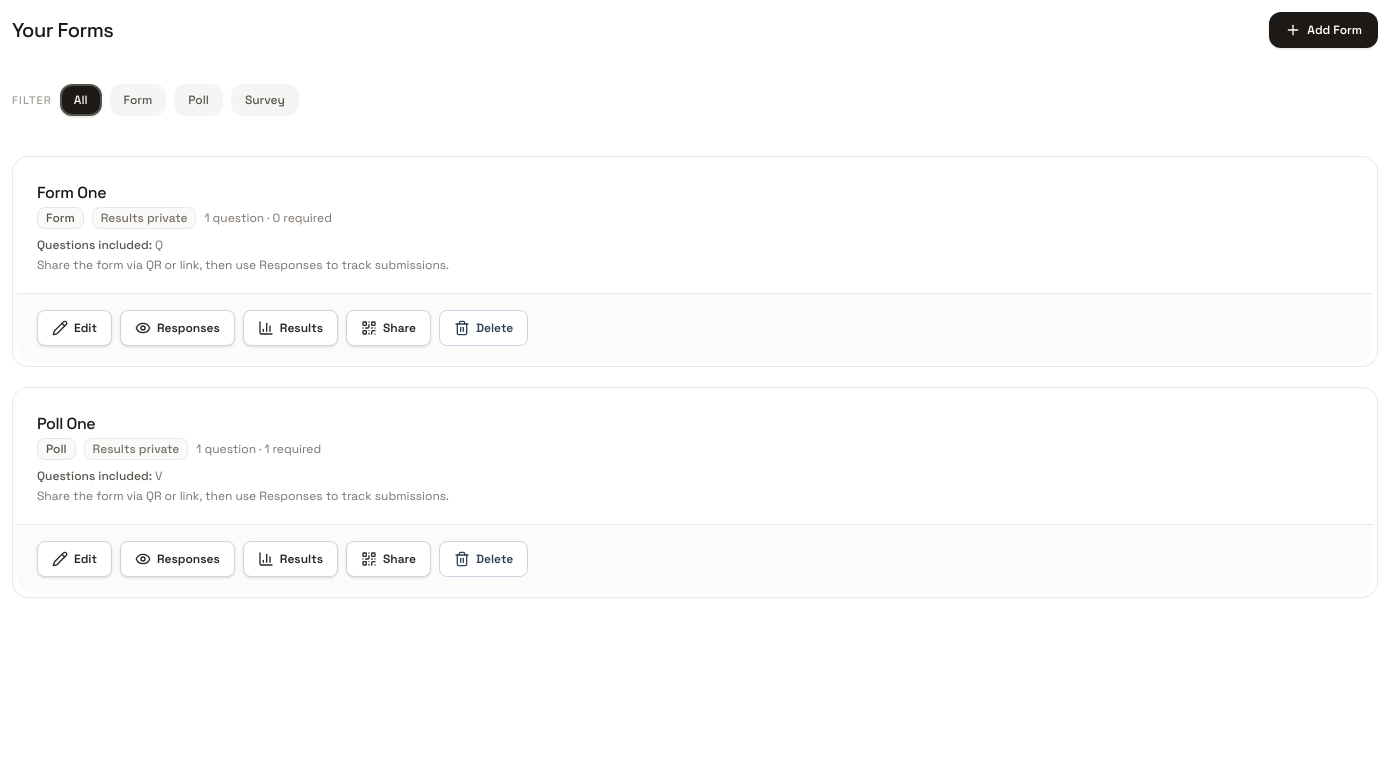
Test: FormsPage › filter by kind shows only matching forms
Expected: the text "Form One" is shown, [37,182,106,203]
Expected: the text "Poll One" is shown, [37,413,95,434]
Click the button "Poll" at (199, 100), box [174,84,223,116]
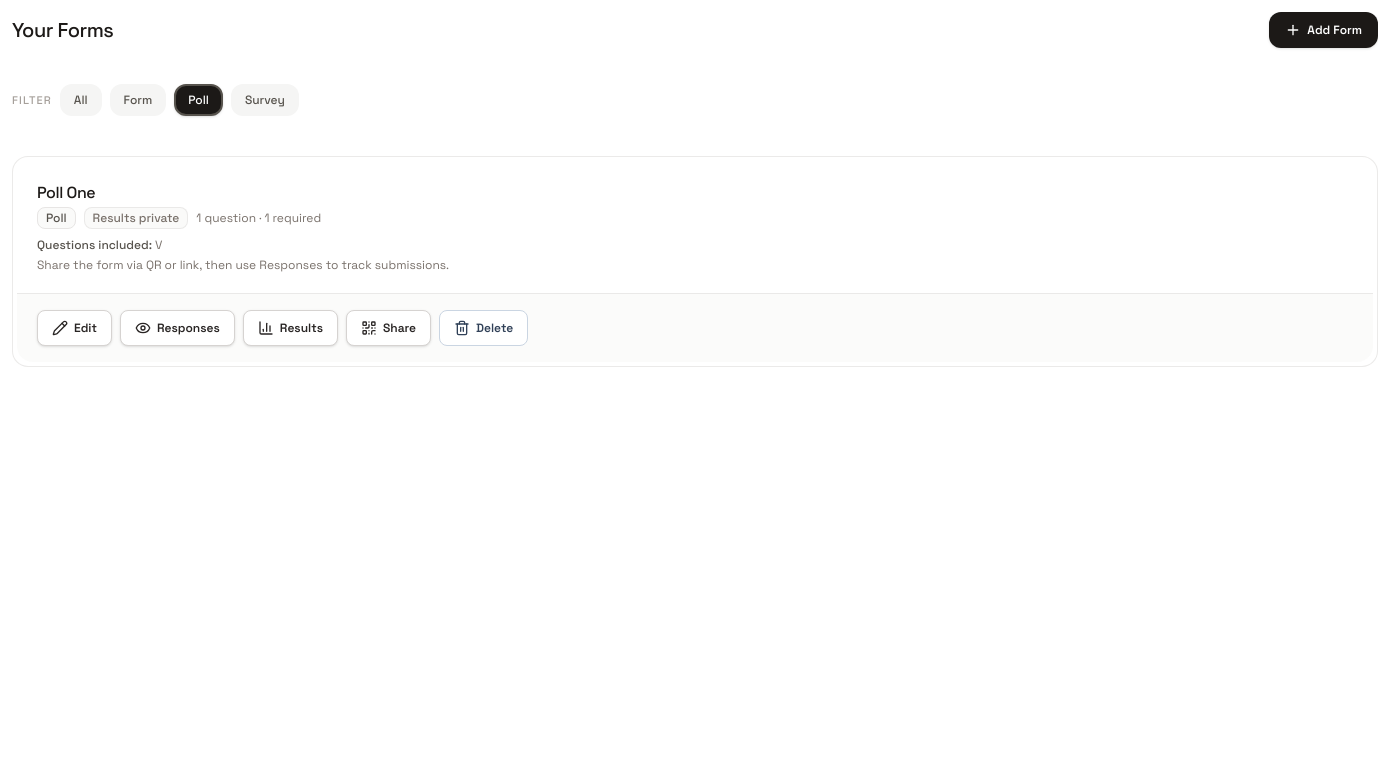
Expected: the text "Poll One" is shown, [37,182,95,203]
Now the text "Form One" is gone
